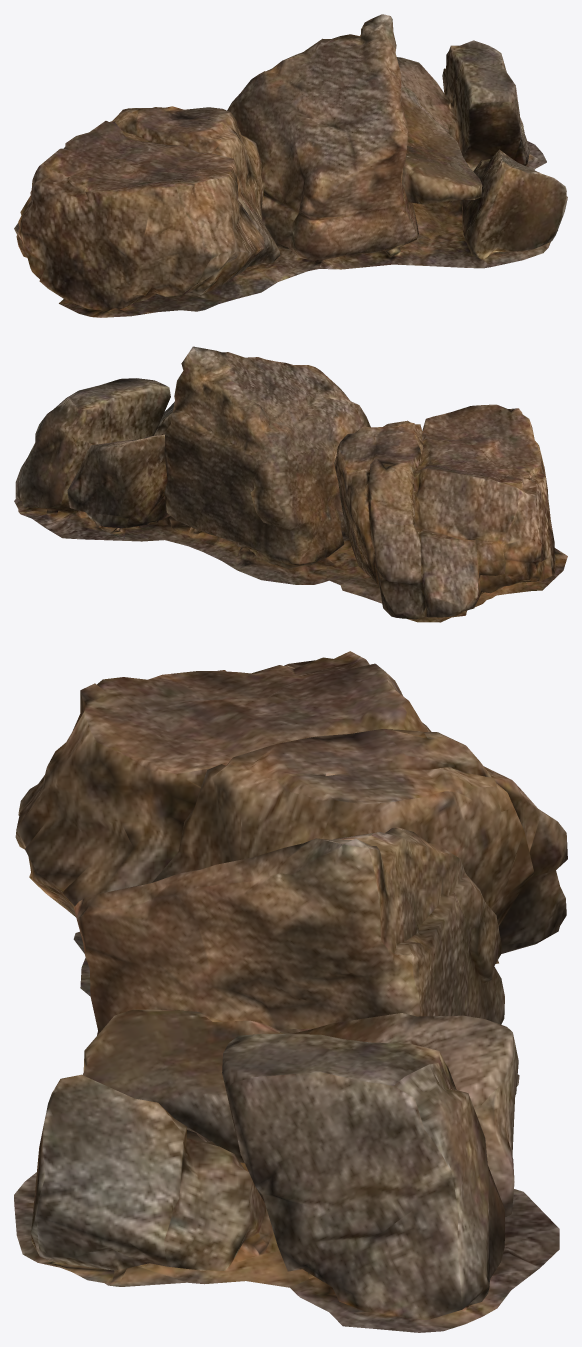
File: namaqualand_boulder_02.glb
3 views of the same model, one above another, from view 1: azimuth 30°, elevation 25°; view 2: azimuth 150°, elevation 25°; view 3: azimuth 270°, elevation 25° (orthographic). The views are drawn at different scales.
Parts seen in each view (by area): view 1: boulder_02; view 2: boulder_02; view 3: boulder_02.
Part boxes in pixels (x1,y1,x2,y2): boulder_02: (14, 14, 567, 317); boulder_02: (14, 346, 567, 622); boulder_02: (14, 651, 567, 1332).
Size of the model in its own units: 2.52 by 0.8804 by 1.23.
1 material, 1 textured.
